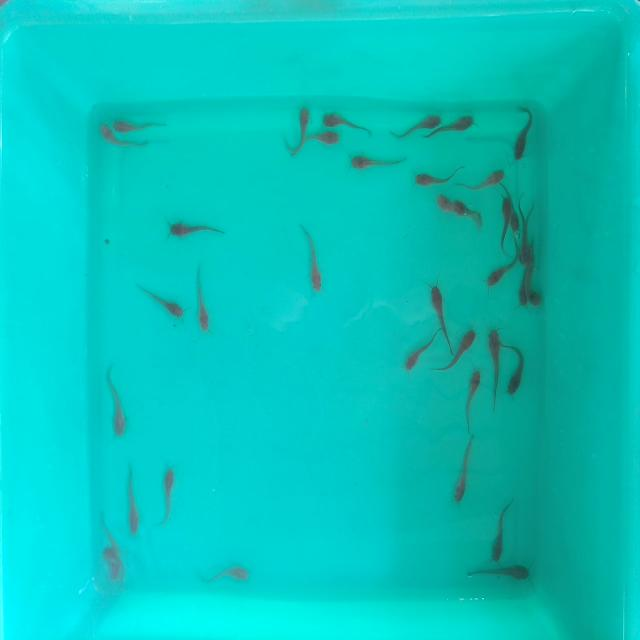lele: (132, 282, 184, 325), (436, 327, 480, 372), (400, 327, 441, 375), (490, 499, 517, 561), (106, 362, 127, 436), (323, 109, 374, 138), (95, 126, 146, 155), (452, 437, 473, 503), (464, 369, 485, 433), (303, 225, 323, 292), (391, 112, 442, 138), (487, 327, 502, 412), (194, 263, 212, 333), (516, 108, 538, 164), (466, 563, 532, 581), (505, 342, 525, 401), (428, 280, 454, 325), (125, 466, 141, 537), (486, 253, 516, 289), (205, 562, 252, 584), (461, 168, 504, 192), (414, 166, 461, 187), (158, 469, 174, 526), (526, 198, 540, 262), (454, 198, 482, 230), (291, 107, 310, 154), (494, 198, 510, 253), (98, 524, 122, 560), (114, 118, 169, 133), (352, 154, 406, 169), (168, 223, 229, 236), (108, 560, 133, 591), (441, 115, 476, 137), (517, 194, 527, 262), (528, 273, 544, 313), (508, 179, 520, 231), (306, 134, 341, 151), (516, 264, 528, 311), (434, 192, 454, 220)
